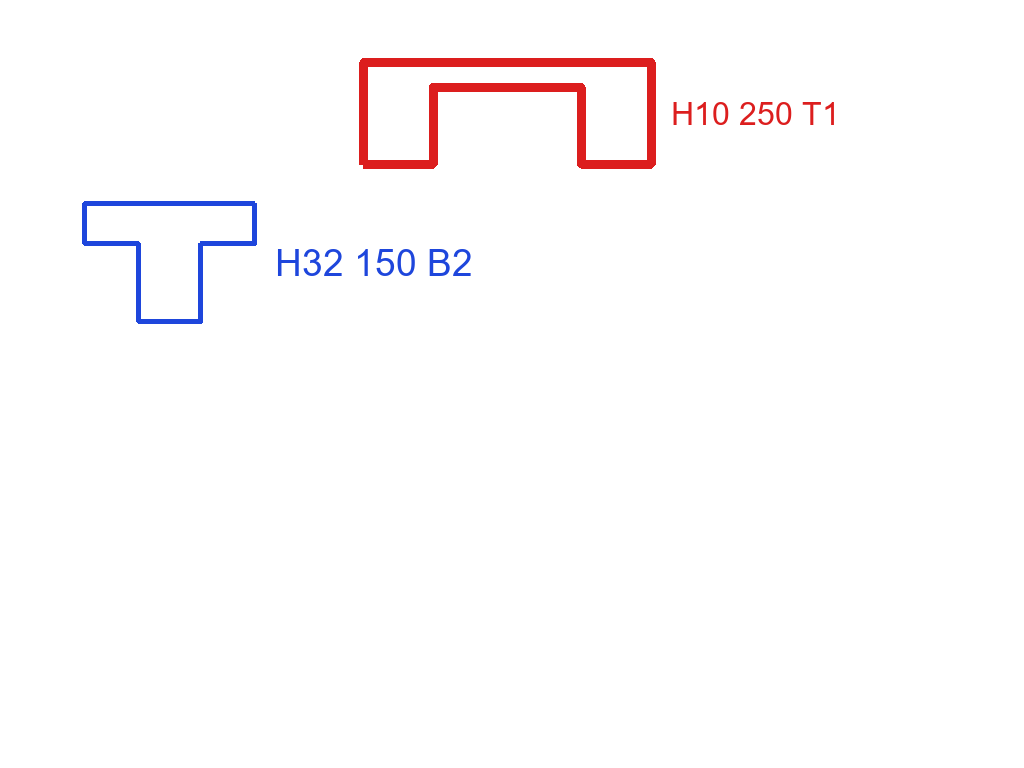shape: (357, 56, 658, 171), (80, 199, 259, 326)
text: (273, 247, 475, 278), (669, 100, 842, 127)
